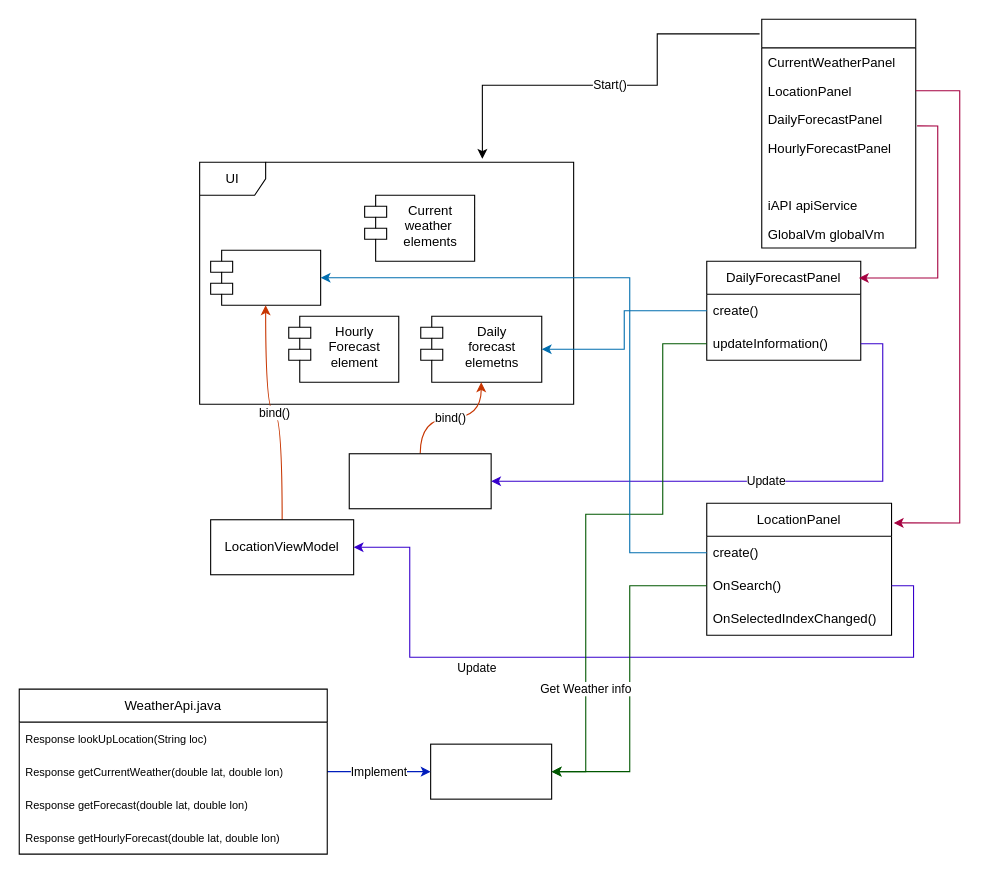
Image size: 988x873. Some labels were removed from this diagram. The box of each missing label's shape, as (x1, y1, x2, y2) in pixels:
ForecastViewModel: (348, 453, 491, 509)
Search elements: (210, 249, 321, 305)
WeatherApp.java: (761, 18, 916, 248)
«interface» iAPI.java: (430, 743, 552, 799)
